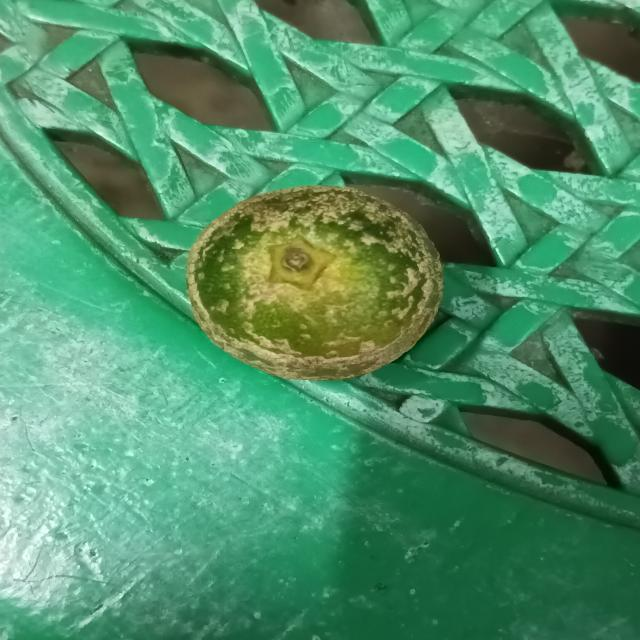thrips: (186, 174, 454, 376)
